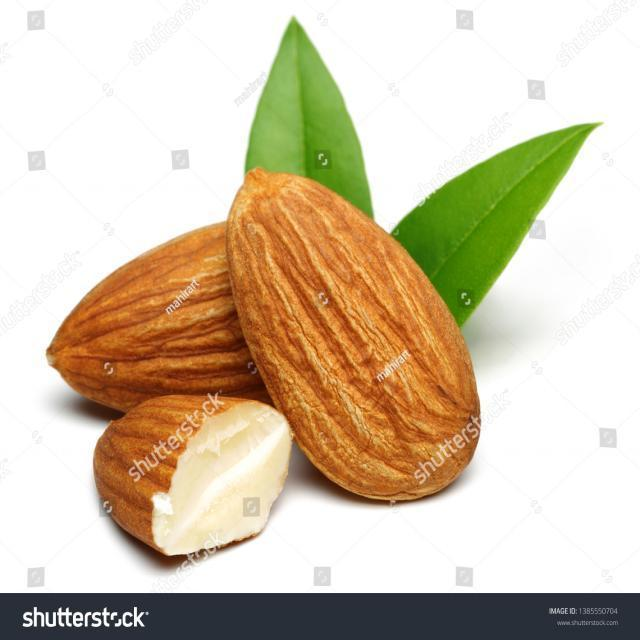almond: (228, 167, 480, 503), (45, 220, 265, 412)
